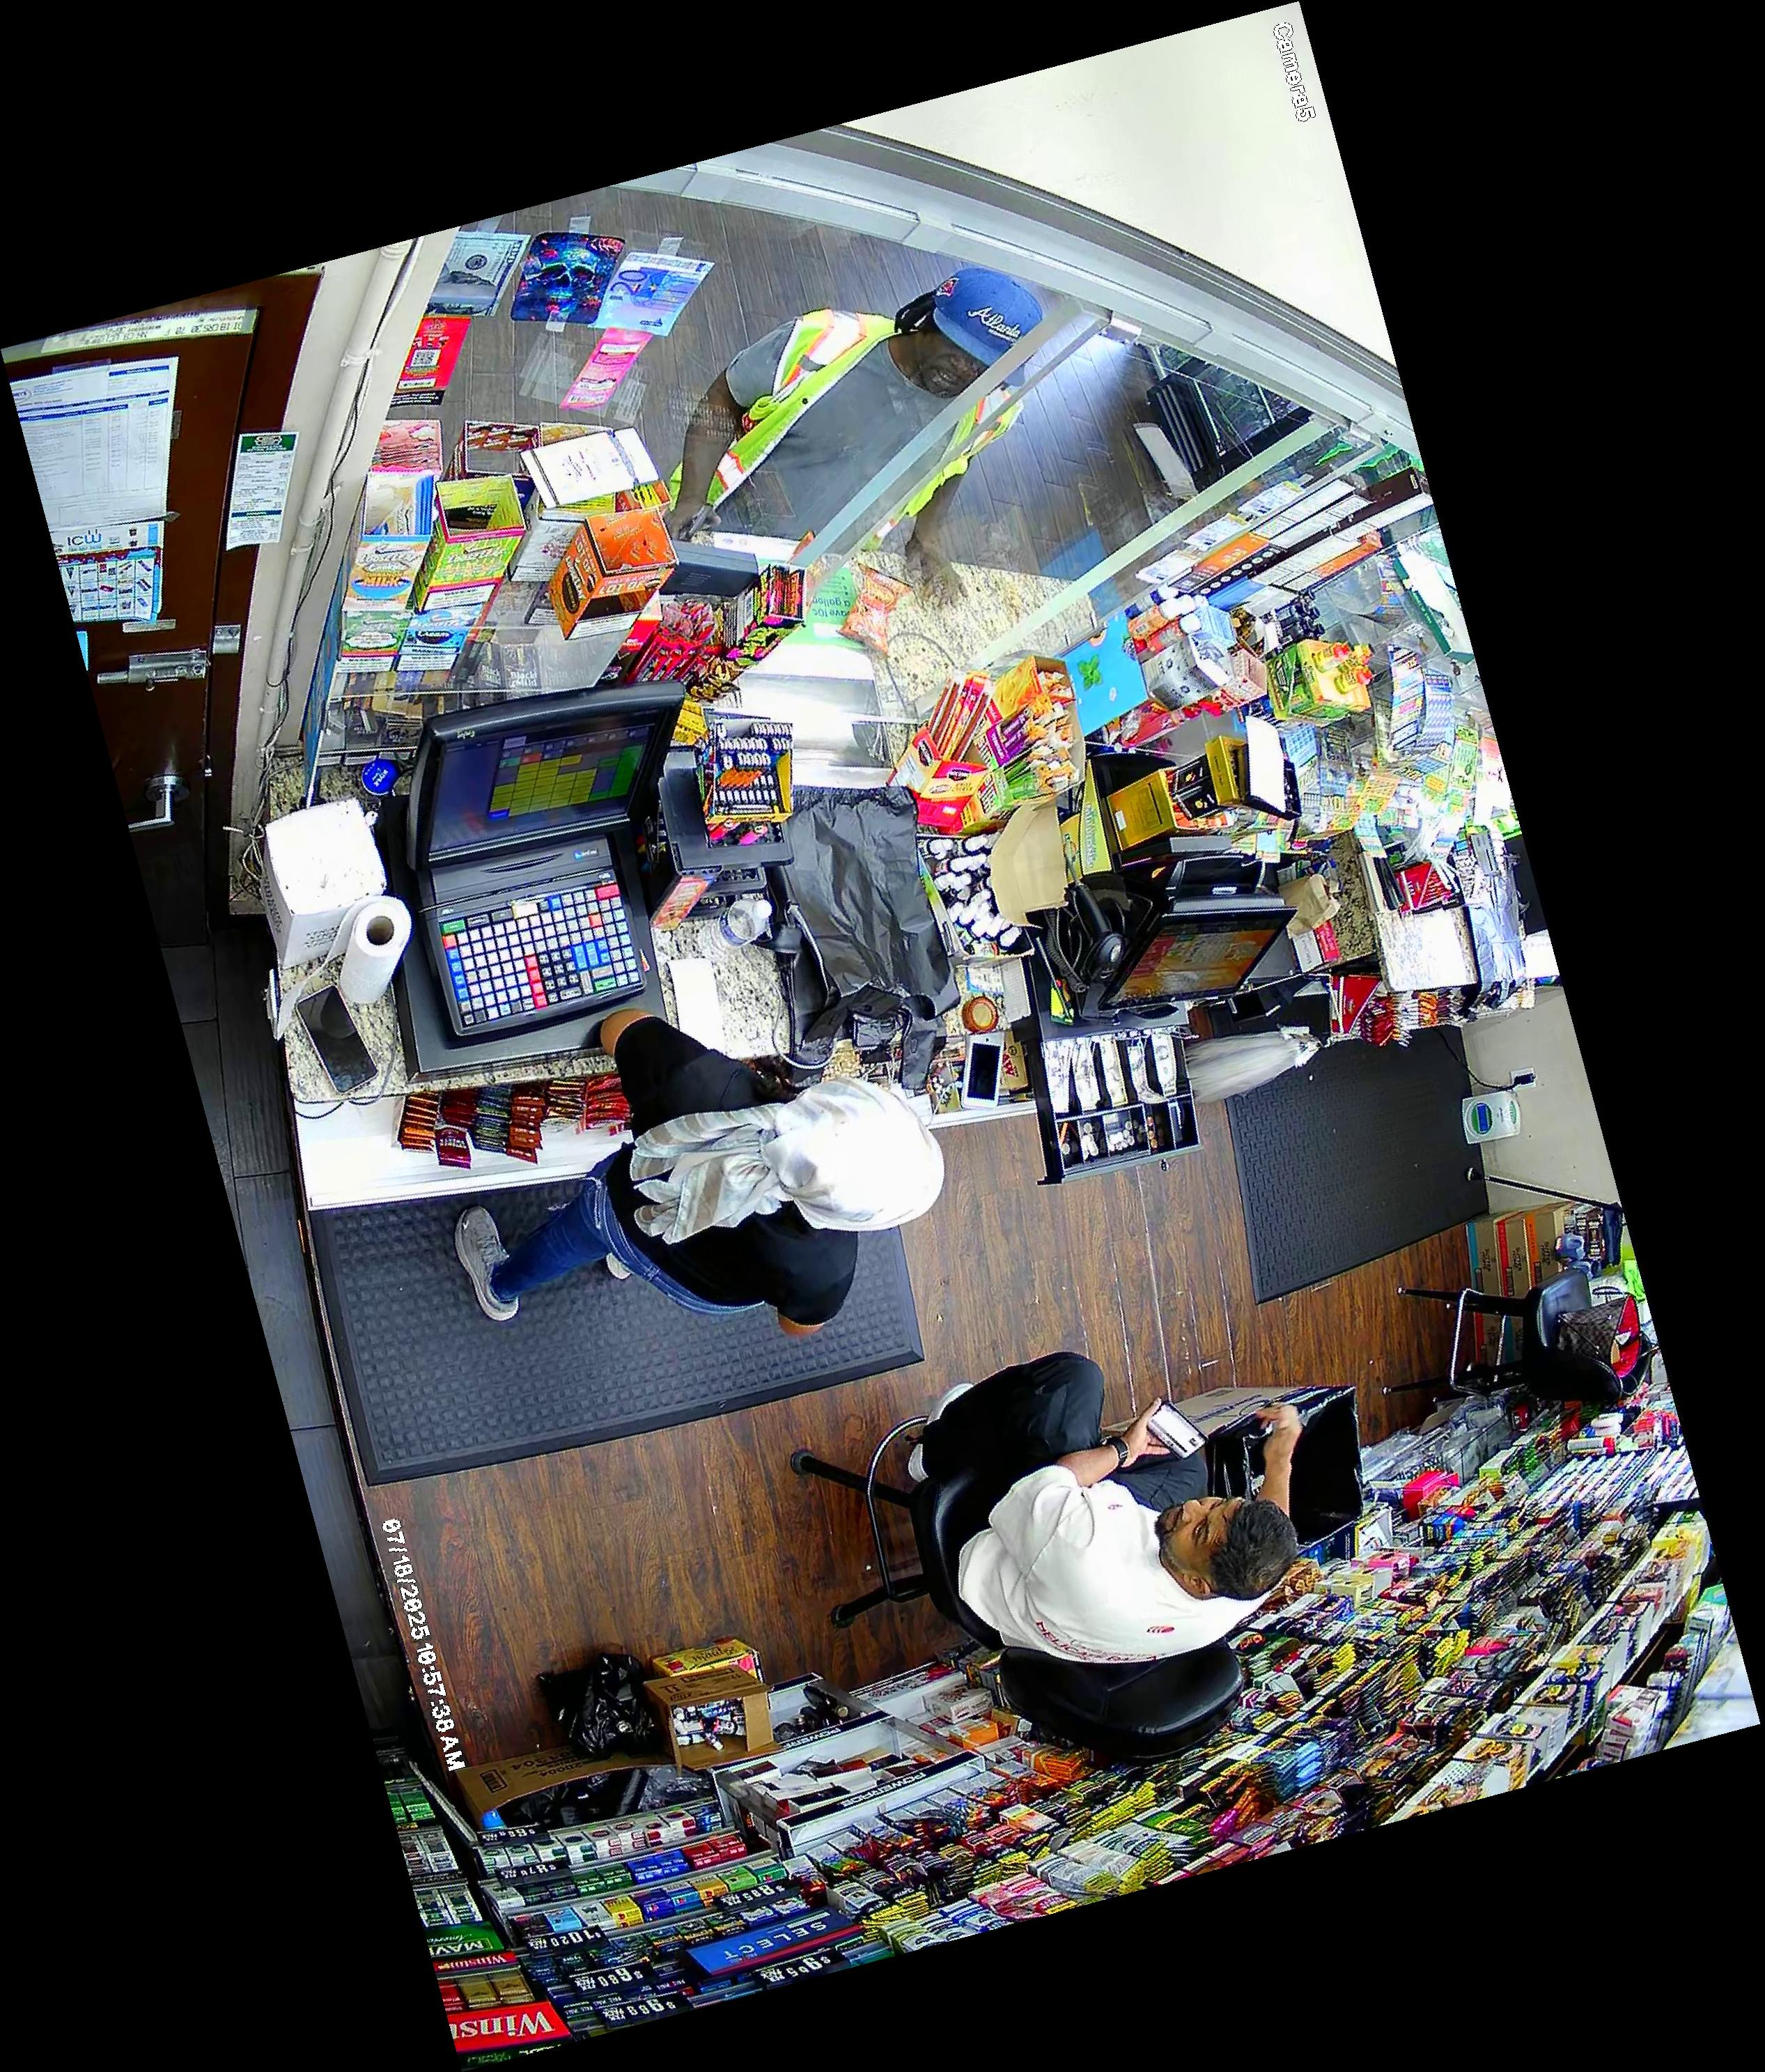phone: (1133, 1392, 1217, 1466), (664, 501, 716, 550)
